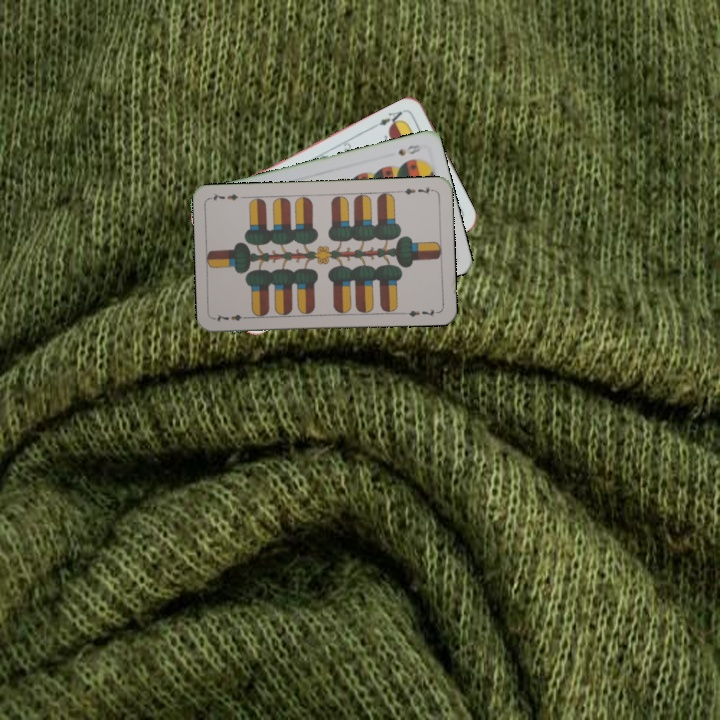E7: (211, 310, 252, 324), (396, 183, 436, 197)
EA: (375, 106, 408, 131)
S8: (394, 140, 424, 158)
